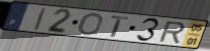2: (46, 8, 72, 35)
3: (134, 17, 162, 43)
I: (33, 7, 49, 32)
O: (77, 12, 105, 37)
R: (157, 21, 187, 45)
T: (109, 15, 130, 39)
